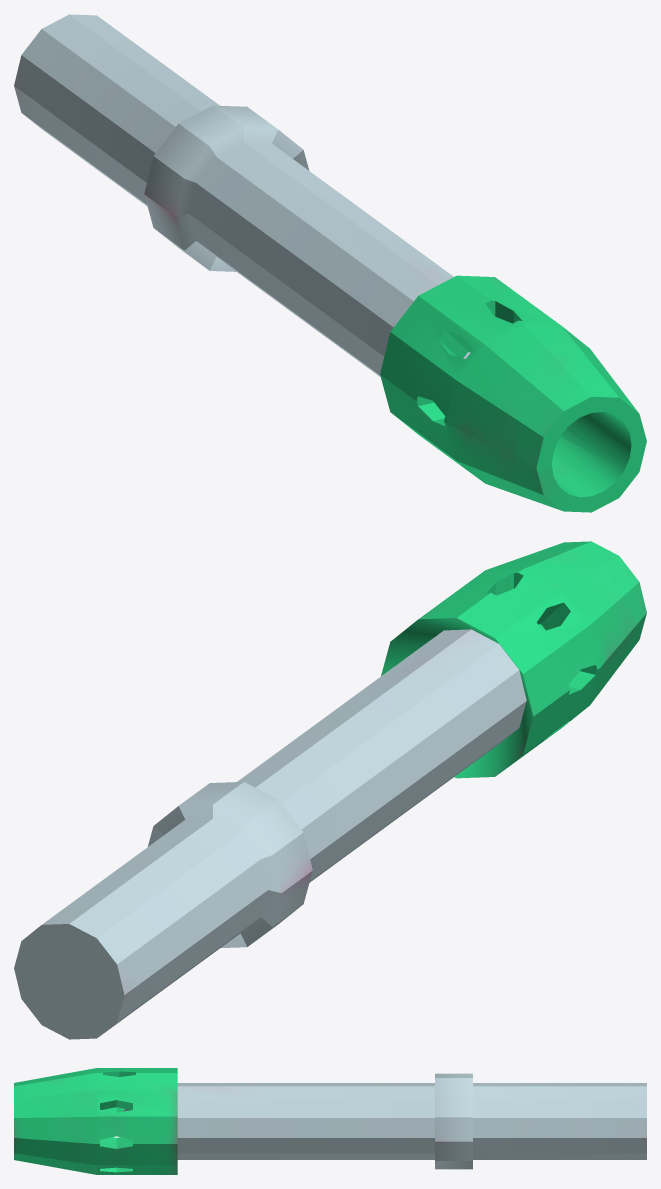
File: canon_final01.fbx
The picture shows the model from 3 angles, top to bottom: view 1: azimuth 30°, elevation 25°; view 2: azimuth 150°, elevation 25°; view 3: azimuth 270°, elevation 25°; orthographic projection. The views are drawn at different scales.
Parts seen in each view (by area): view 1: polySurface10; view 2: polySurface10; view 3: polySurface10.
Boxes of the visible parts, bbox=[...] form: polySurface10: bbox=[14, 14, 646, 512]; polySurface10: bbox=[14, 541, 646, 1039]; polySurface10: bbox=[14, 1068, 646, 1174].
Size of the model in its own units: 1.31 by 1.31 by 7.74.
1 material, 1 textured.
